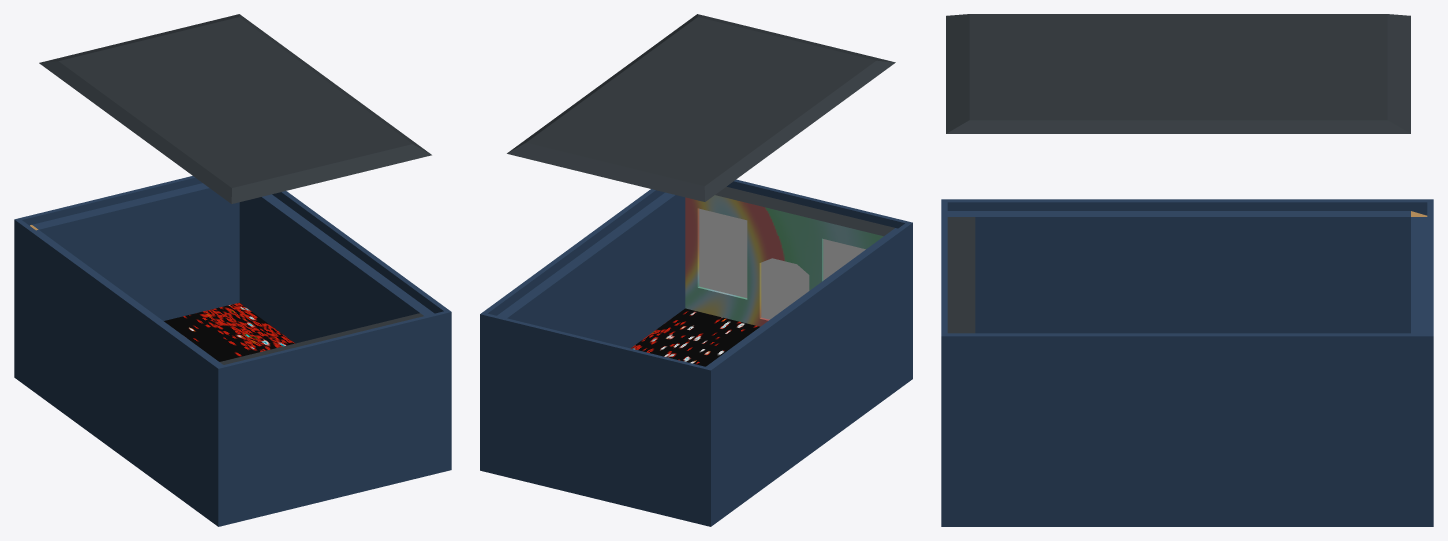
The model's file is Arcade Inside.fbx.
The picture shows the model from 3 angles, left to right: view 1: azimuth 30°, elevation 25°; view 2: azimuth 150°, elevation 25°; view 3: azimuth 270°, elevation 25°; orthographic projection. The views are drawn at different scales.
Parts seen in each view (by area): view 1: Cube.002, Cube, Cube.001; view 2: Cube.002, Cube, Cube.001; view 3: Cube.002, Cube, Cube.001.
Boxes of the visible parts, x1,y1,x2,y2 form: Cube.002: (14,176,451,526); Cube: (30,183,434,365); Cube.001: (39,14,431,203); Cube.002: (480,179,912,526); Cube: (497,186,897,367); Cube.001: (507,14,895,201); Cube.002: (941,199,1433,526); Cube: (947,211,1427,333); Cube.001: (946,14,1410,133).
Bounding box in the file's own units: 1303 × 1730 × 1976.
